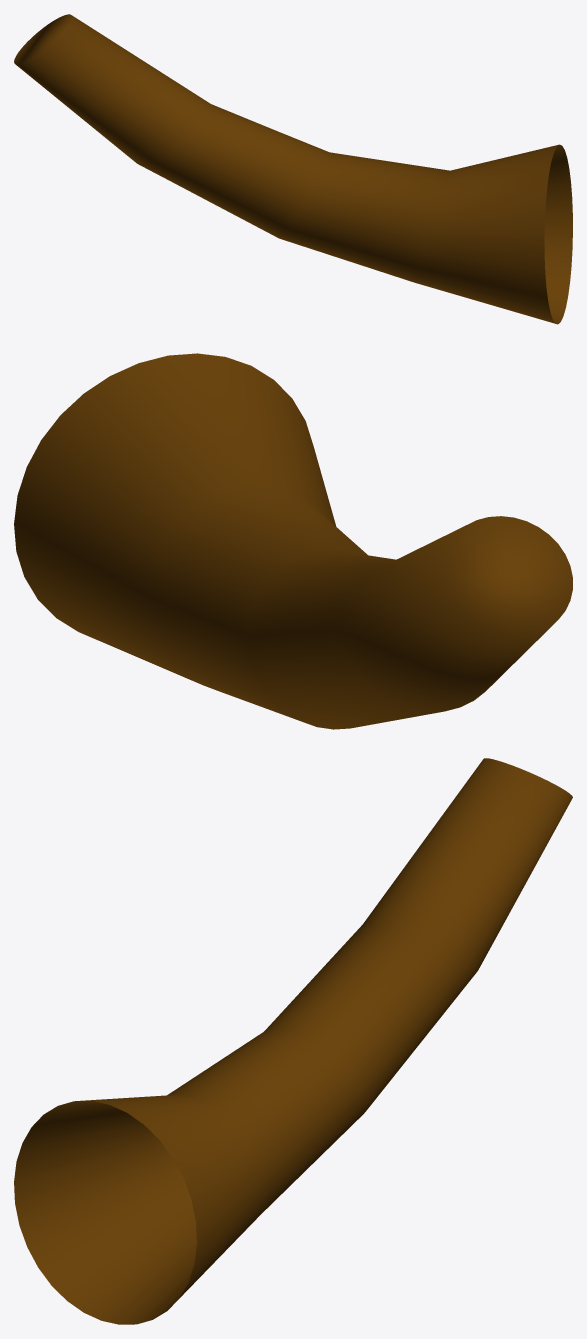
Rendered from Ramo1.fbx.
The picture shows the model from 3 angles, top to bottom: view 1: azimuth 30°, elevation 25°; view 2: azimuth 150°, elevation 25°; view 3: azimuth 270°, elevation 25°; orthographic projection. The views are drawn at different scales.
Parts seen in each view (by area): view 1: Ramo1; view 2: Ramo1; view 3: Ramo1.
Boxes of the visible parts, box(x1,y1,x2,y2) form: Ramo1: box(14, 14, 572, 324); Ramo1: box(14, 353, 572, 729); Ramo1: box(14, 758, 572, 1324).
Bounding box in the file's own units: 470 × 277 × 407.
